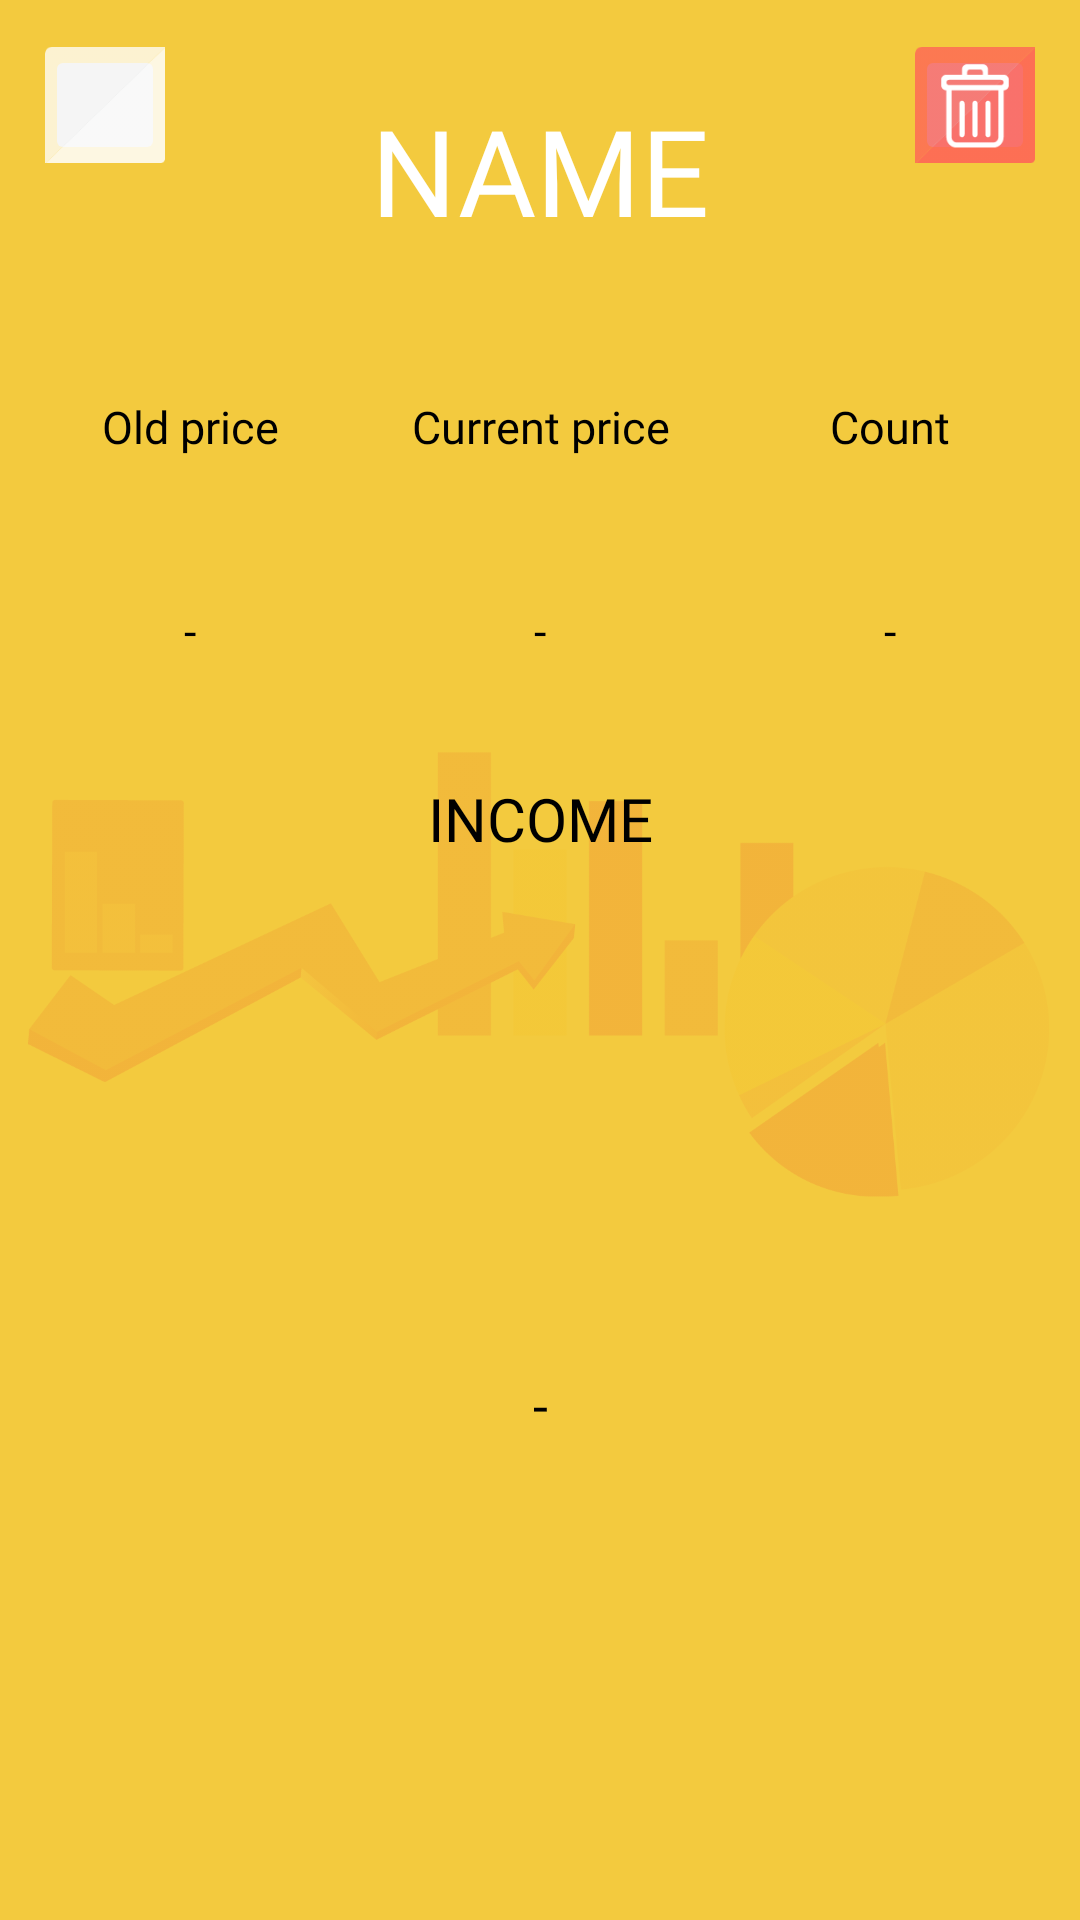

Where icons sit on this 1080px×1920px app screen, as (x1, y1, x2, y2):
checkbox frame: (45, 47, 165, 163)
delete: (915, 47, 1035, 163)
